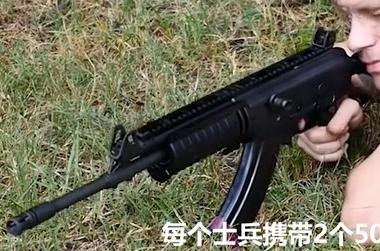gun: (1, 1, 380, 251)
